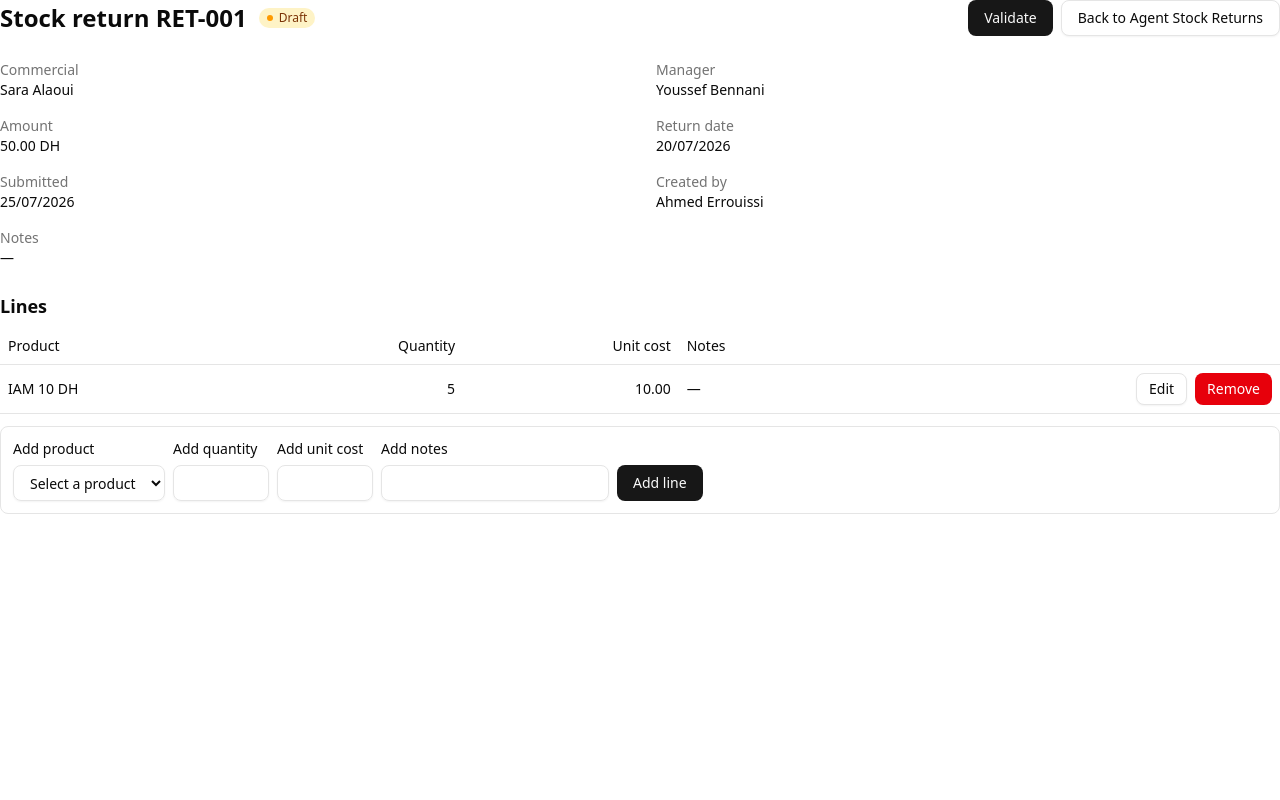
Test: Validate — freshness rule (M4 · G4 closure) and error codes › keeps confirm disabled while the freshness check is in flight
What coordinates should you click on to do the following:
click the button "Validate"
I would click on:
 (1010, 18)
Its box is [968,0,1053,36].
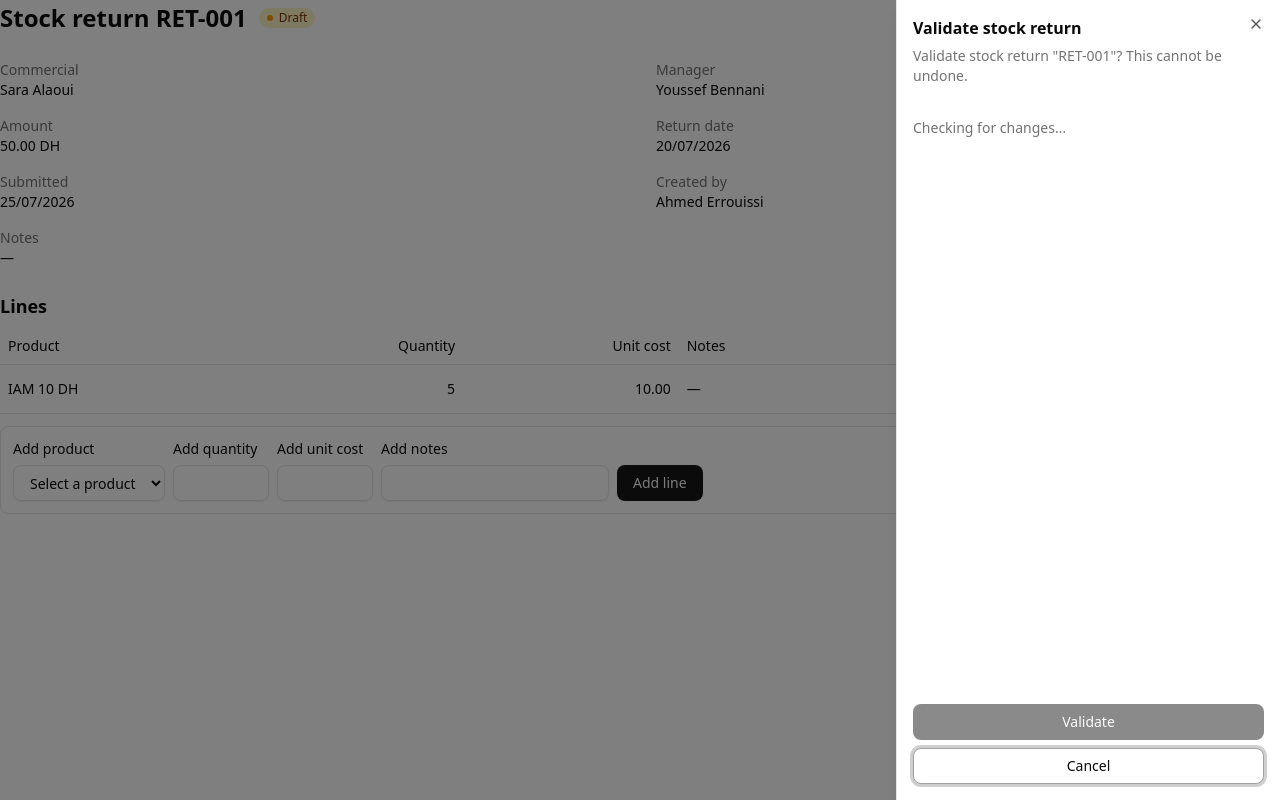
Result: the button "Validate" is disabled at [913,704,1264,740]
Result: the text "Checking for changes…" is shown at [913,118,1066,137]
